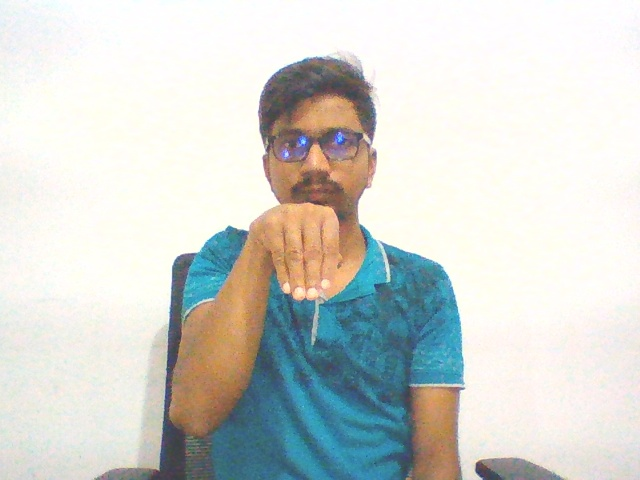Squirrel: (239, 185, 364, 316)
